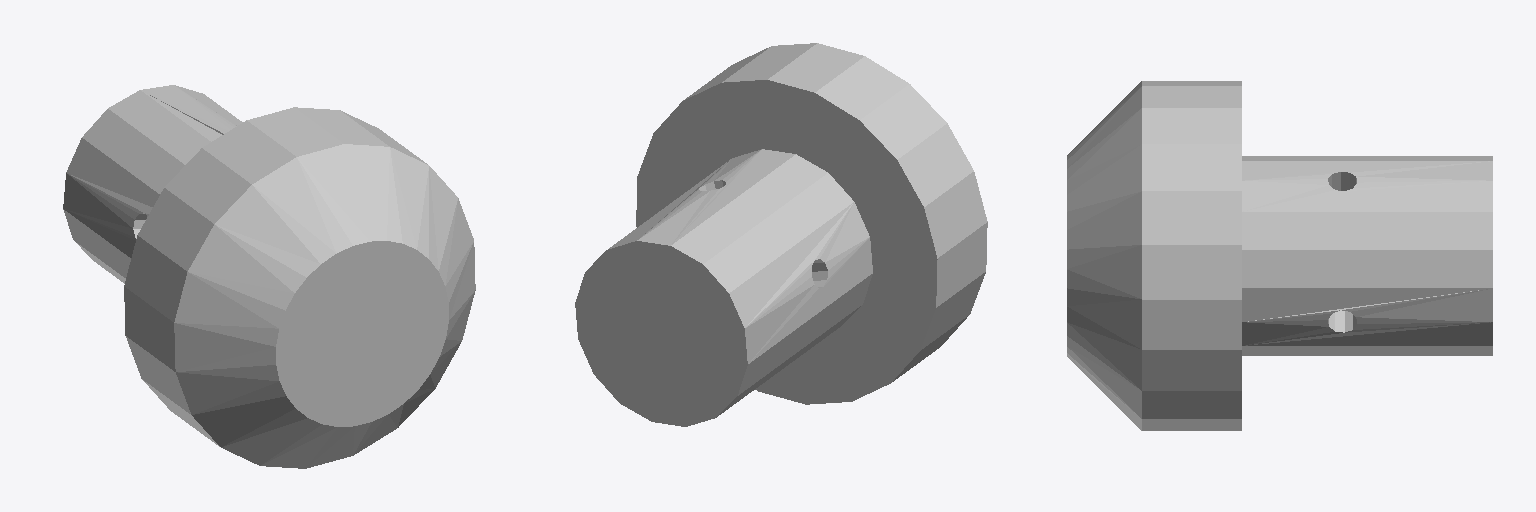
Rendered from Screw.obj.
3 views of the same model, side by side, from view 1: azimuth 30°, elevation 25°; view 2: azimuth 150°, elevation 25°; view 3: azimuth 270°, elevation 25° (orthographic).
Visible parts, largest first — view 1: 1; view 2: 1; view 3: 1.
Part boxes in pixels (bbox=[...]): 1: bbox=[63, 85, 475, 468]; 1: bbox=[575, 43, 987, 426]; 1: bbox=[1067, 81, 1492, 430].
Size of the model in its own units: 69.42 by 69.42 by 85.